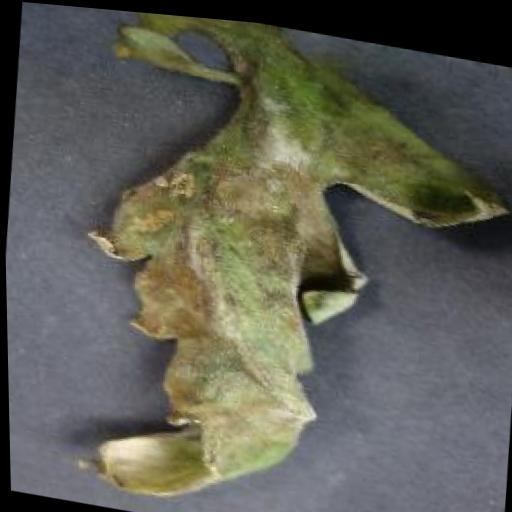Late Blight: (41, 3, 512, 512)
